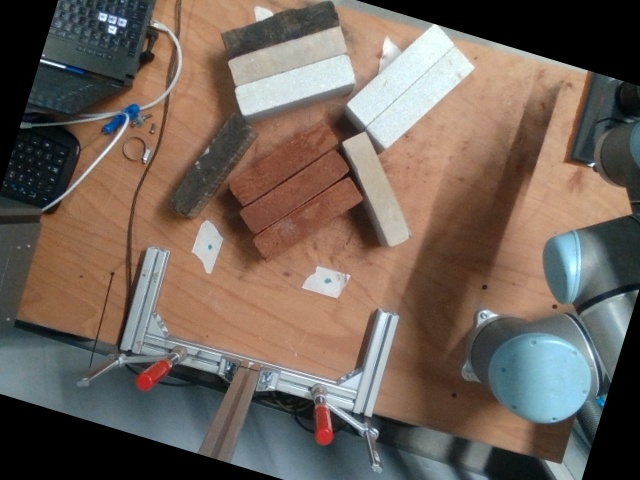brick-side: (350, 27, 451, 121), (370, 50, 470, 143), (230, 121, 336, 204), (255, 177, 360, 260), (242, 150, 347, 233), (166, 114, 249, 216), (345, 133, 409, 245), (238, 56, 352, 113), (231, 27, 344, 83), (225, 1, 338, 54)
